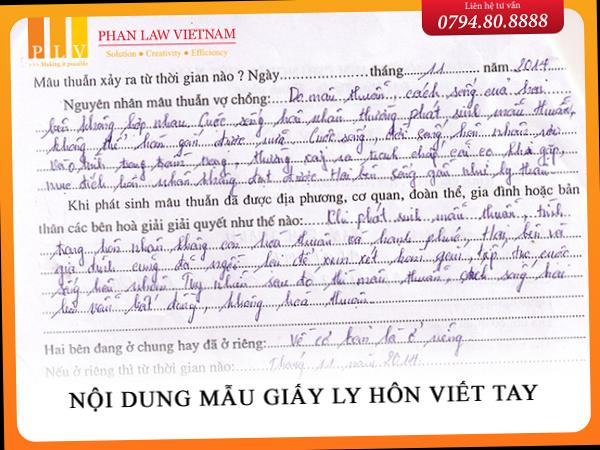text: (36, 94, 576, 143), (46, 259, 571, 307), (46, 220, 570, 268), (49, 241, 571, 288), (46, 139, 566, 185), (39, 120, 564, 164), (41, 156, 550, 200), (35, 196, 567, 238), (60, 76, 548, 116), (42, 319, 464, 365), (66, 376, 540, 415), (63, 181, 581, 214), (48, 285, 376, 329), (42, 346, 420, 384), (31, 66, 282, 91), (96, 25, 238, 44), (436, 10, 550, 32), (103, 46, 228, 60), (481, 56, 550, 76), (29, 42, 88, 60), (28, 58, 90, 72), (368, 62, 404, 82), (463, 0, 521, 12), (415, 60, 449, 80)
